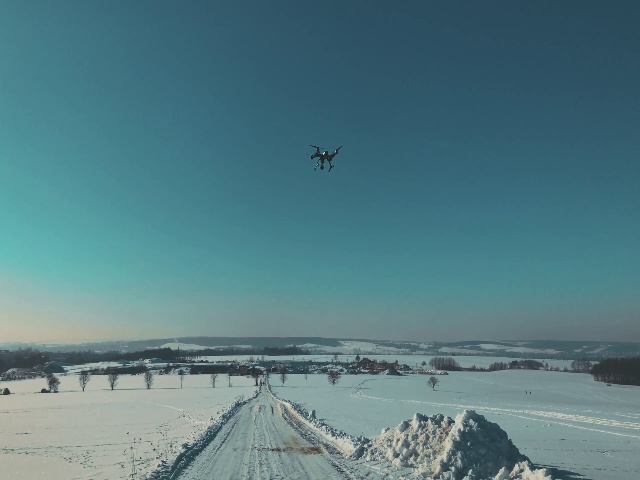drone: (302, 142, 344, 175)
